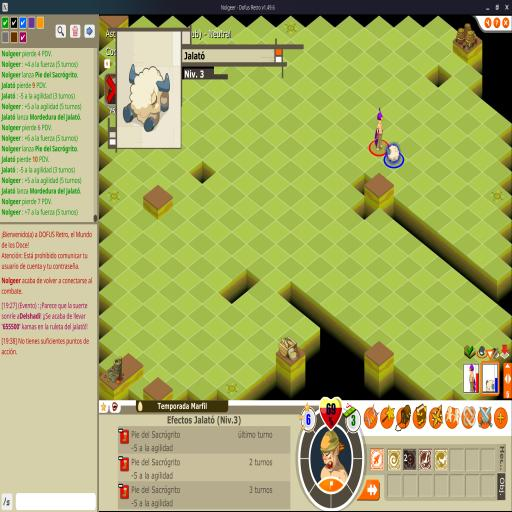Enemigos: (386, 144, 400, 163)
Personaje: (374, 107, 384, 151)
